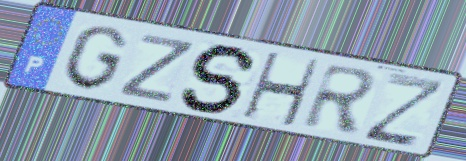G: (60, 23, 131, 93)
H: (240, 50, 324, 130)
R: (298, 61, 382, 136)
S: (178, 43, 262, 115)
Z: (359, 70, 450, 150), (114, 31, 200, 106)
